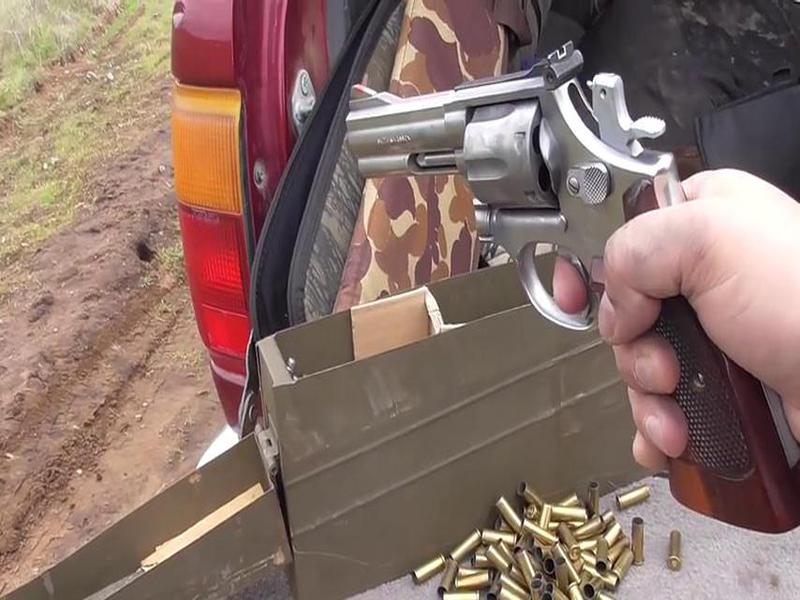Revolver: (337, 45, 716, 462)
